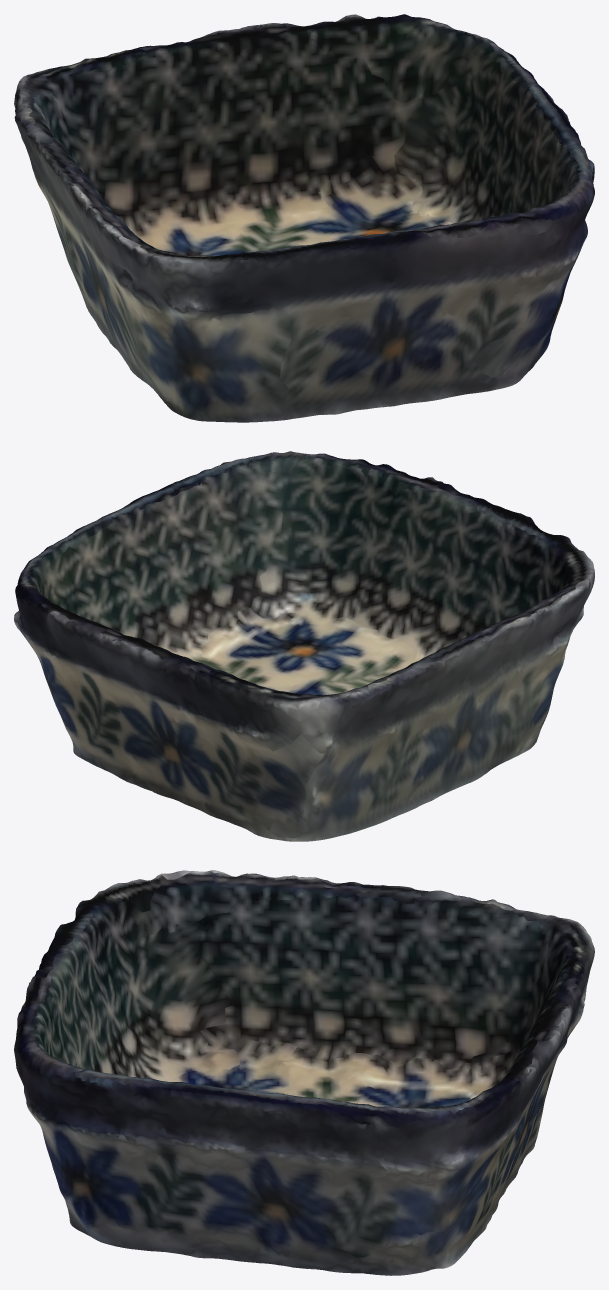
File: pottery.glb
3 renders of one model, top to bottom at view 1: azimuth 30°, elevation 25°; view 2: azimuth 150°, elevation 25°; view 3: azimuth 270°, elevation 25°, orthographic. The views are drawn at different scales.
Visible parts, largest first — view 1: mesh.006; view 2: mesh.006; view 3: mesh.006.
Boxes of the visible parts, <box> form: mesh.006: <box>14,14,594,422</box>; mesh.006: <box>14,451,594,841</box>; mesh.006: <box>14,870,594,1275</box>.
Bounding box in the file's own units: 0.1058 × 0.0397 × 0.1072.
1 material, 1 textured.
